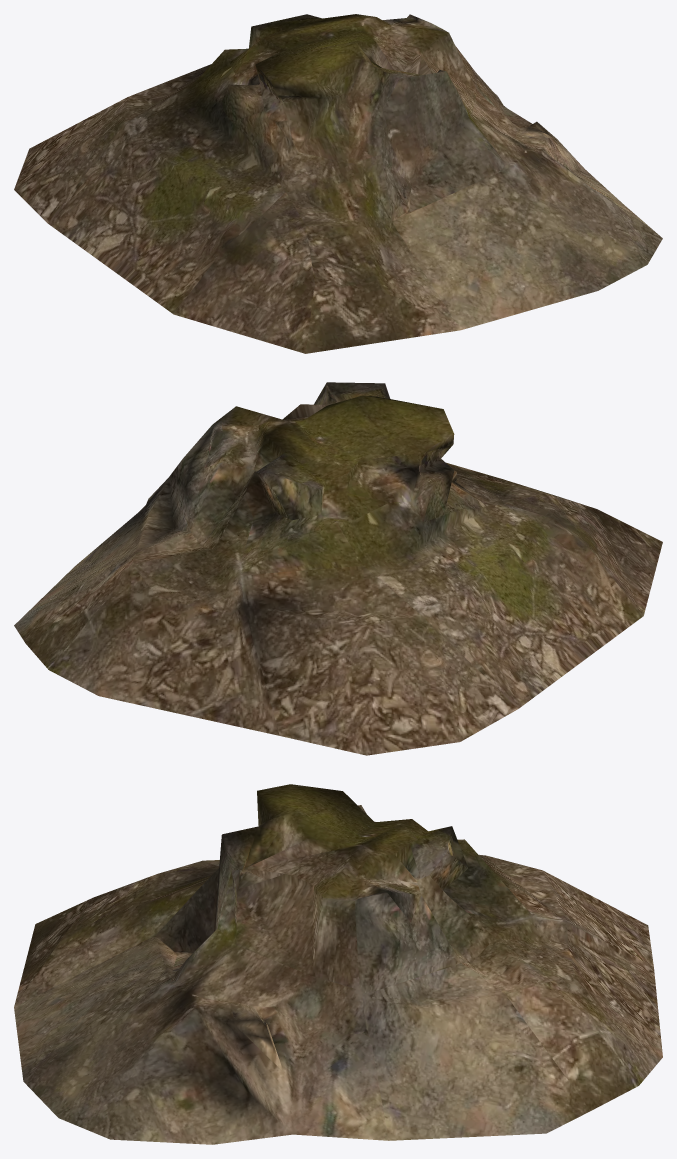
The model's file is tree_stump.glb.
The picture shows the model from 3 angles, top to bottom: view 1: azimuth 30°, elevation 25°; view 2: azimuth 150°, elevation 25°; view 3: azimuth 270°, elevation 25°; orthographic projection. The views are drawn at different scales.
Visible parts, largest first — view 1: tree_stump_01; view 2: tree_stump_01; view 3: tree_stump_01.
Part boxes in pixels (<box>): tree_stump_01: <box>14,14,662,353</box>; tree_stump_01: <box>14,382,662,755</box>; tree_stump_01: <box>14,784,662,1144</box>.
Size of the model in its own units: 1.42 by 0.5646 by 1.59.
1 material, 1 textured.
